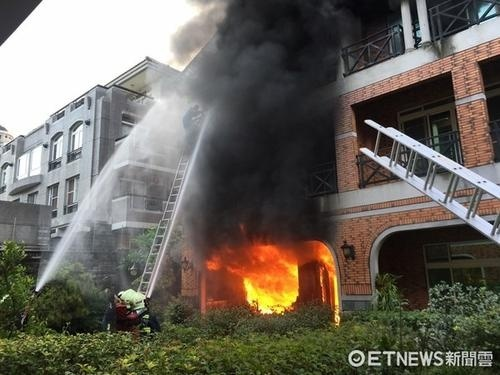fire: (204, 231, 336, 314)
